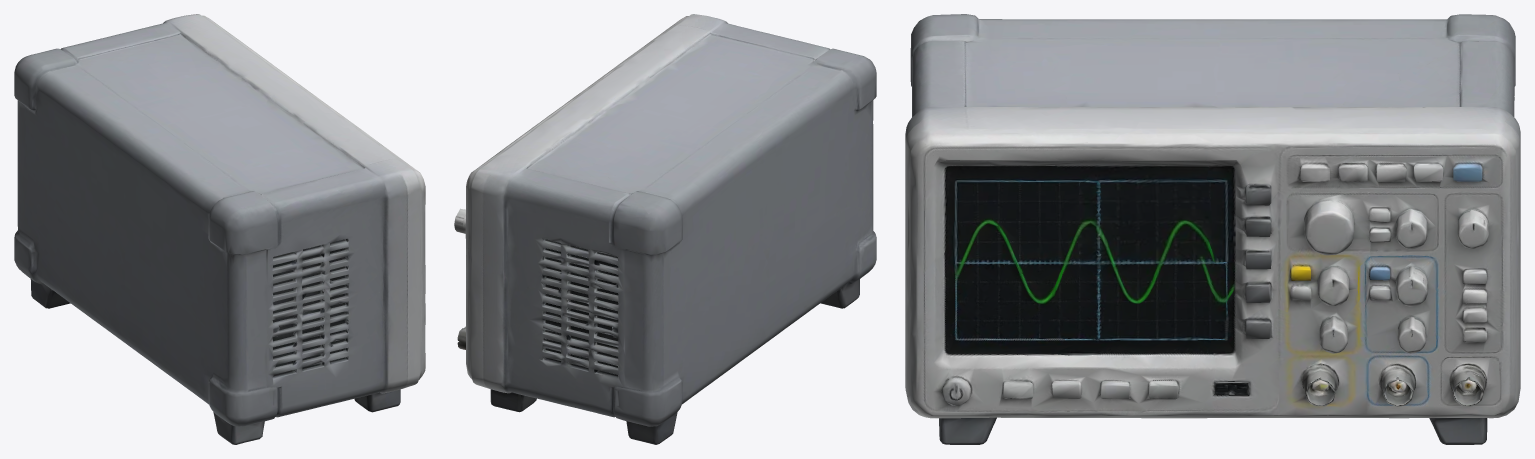
File: oscilloscope.glb
The picture shows the model from 3 angles, left to right: view 1: azimuth 30°, elevation 25°; view 2: azimuth 150°, elevation 25°; view 3: azimuth 270°, elevation 25°; orthographic projection. The views are drawn at different scales.
Visible parts, largest first — view 1: oscilloscope; view 2: oscilloscope; view 3: oscilloscope.
Part boxes in pixels (<box>): oscilloscope: <box>14,14,425,444</box>; oscilloscope: <box>454,14,876,444</box>; oscilloscope: <box>905,14,1520,444</box>.
Bounding box in the file's own units: 0.1743 × 0.1857 × 0.32.
1 material, 1 textured.
